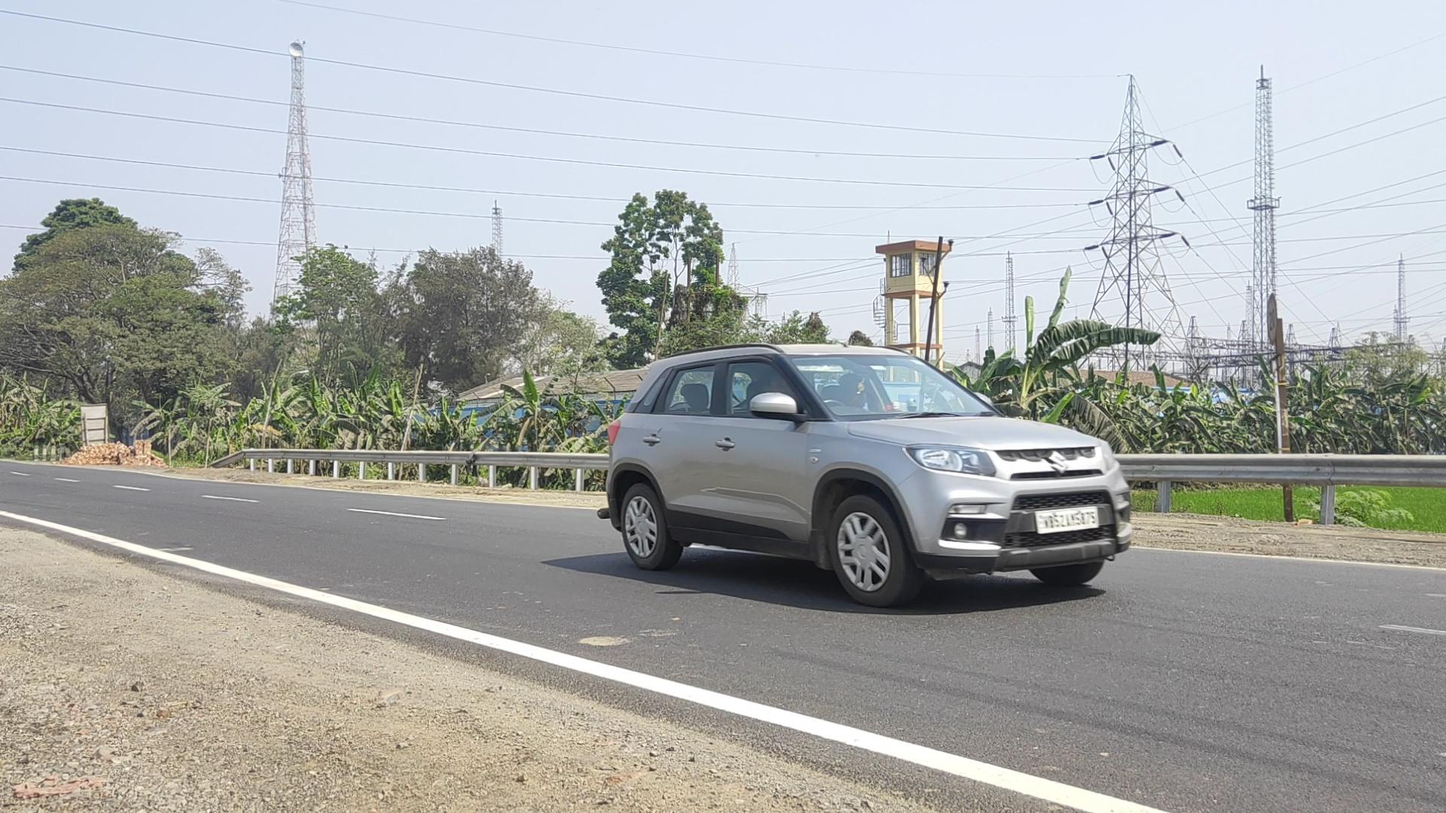car: (597, 343, 1132, 608)
